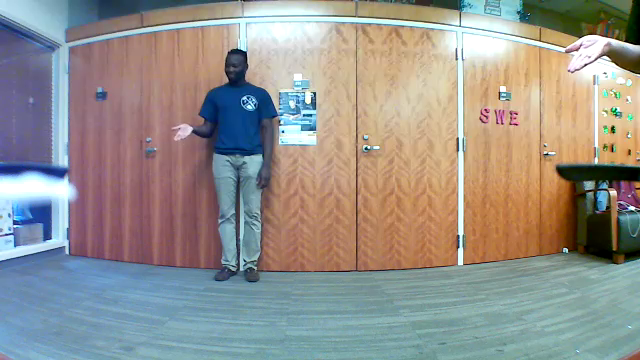land: (552, 23, 620, 78), (165, 123, 197, 146)
